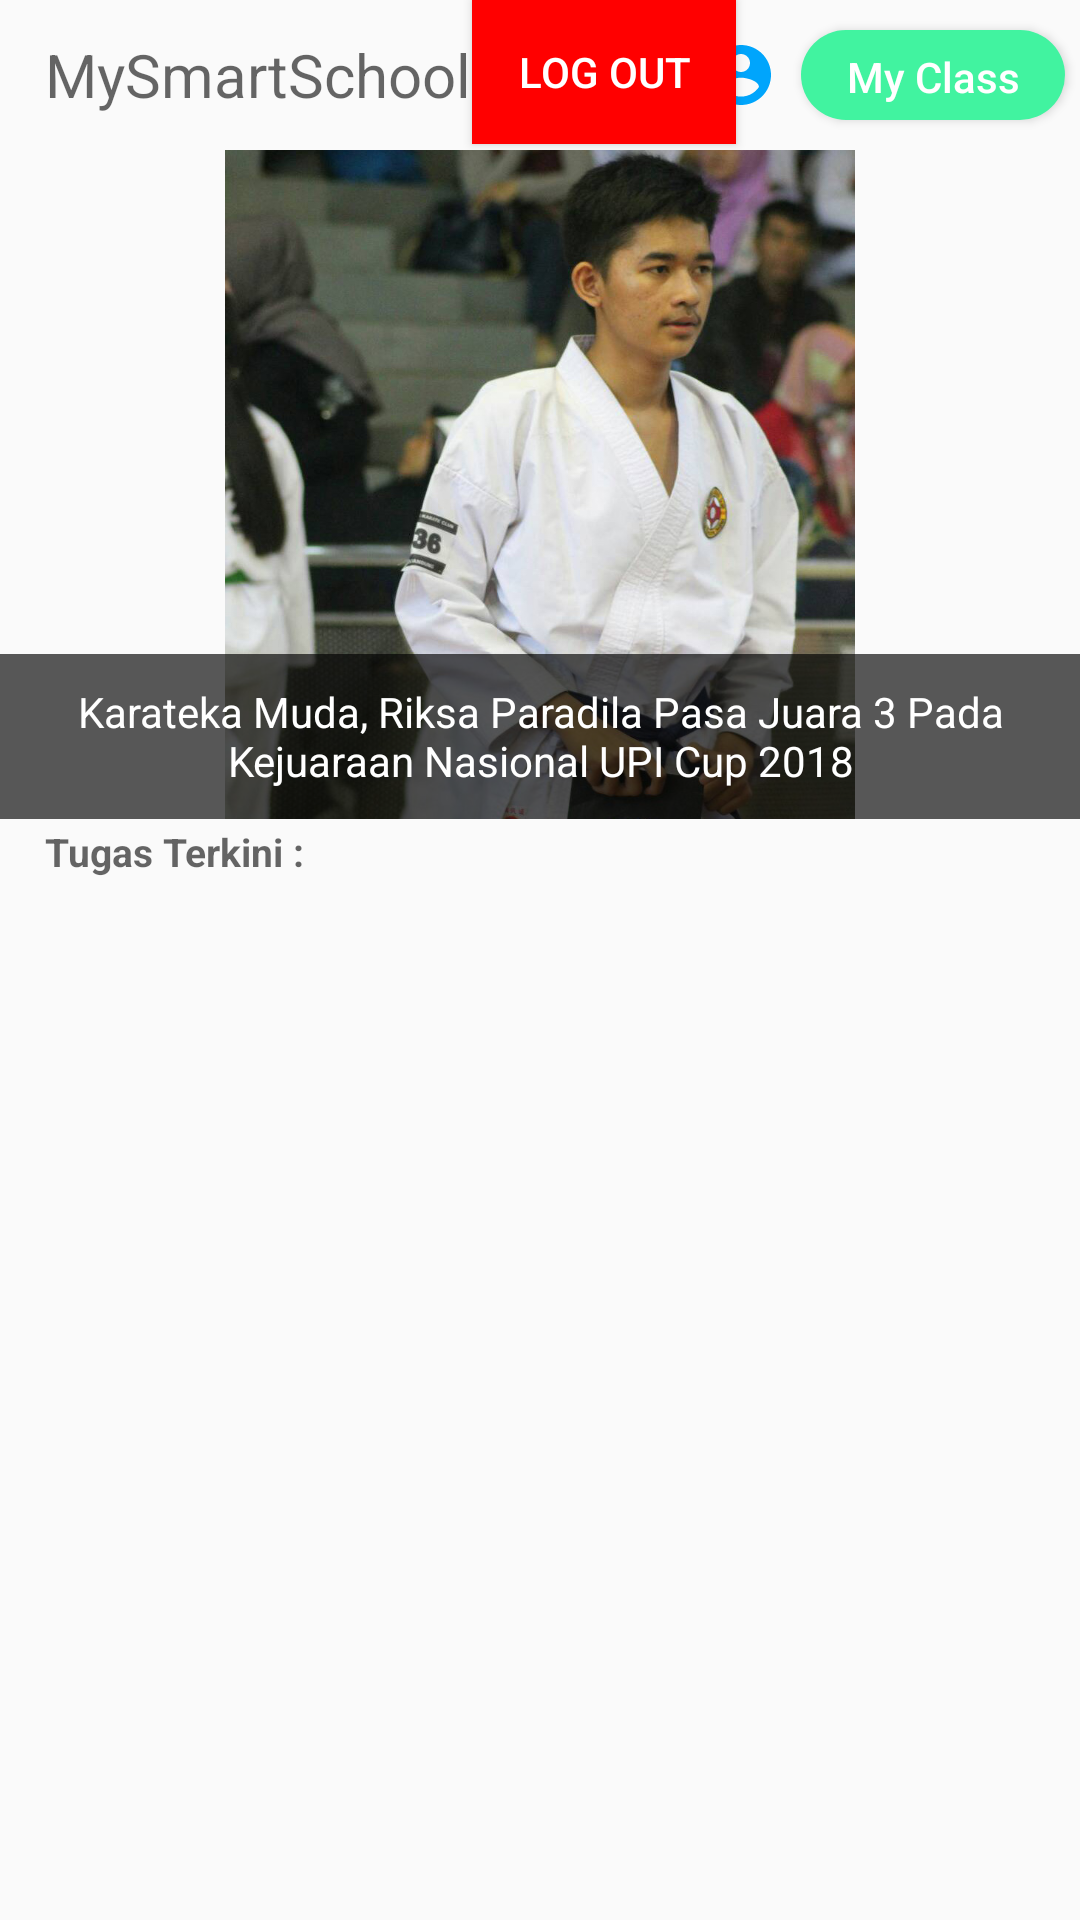

Screen size 1080w x 1920h. Icon name, then its center in pixels as (x,y):
account circle: (741,75)
